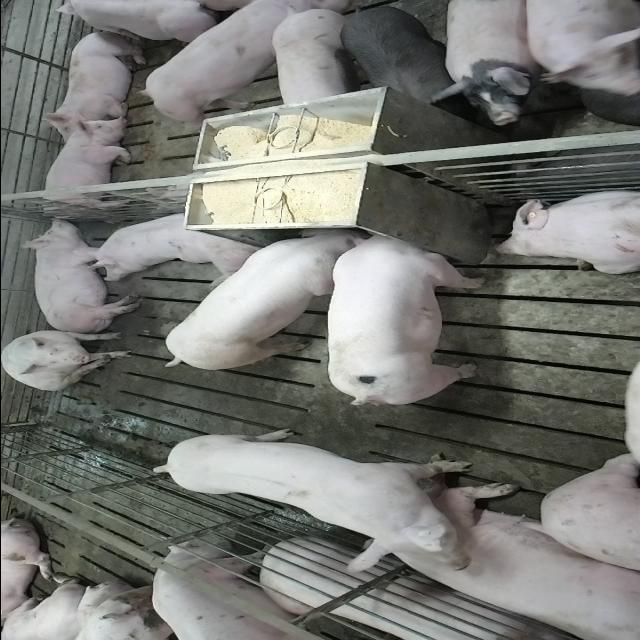Feeding: (161, 228, 365, 376), (324, 224, 487, 400)
Lateral_lying: (15, 216, 142, 334)
Sitting: (2, 328, 134, 391)
Standing: (156, 428, 489, 576), (136, 2, 294, 125), (154, 542, 345, 640), (432, 2, 540, 126), (334, 3, 456, 108), (520, 3, 640, 100), (270, 7, 352, 108)
Sternal_lying: (365, 492, 634, 640), (70, 206, 260, 276), (490, 186, 640, 274), (40, 28, 148, 132), (36, 120, 136, 216)
